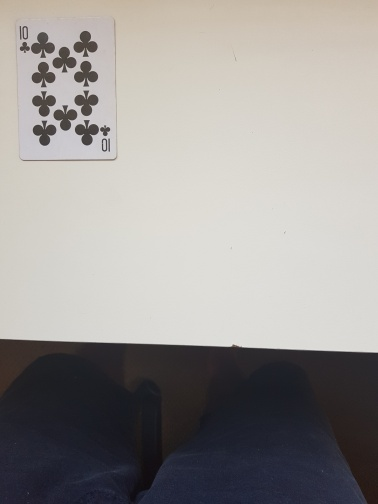ten: (13, 17, 119, 162)
